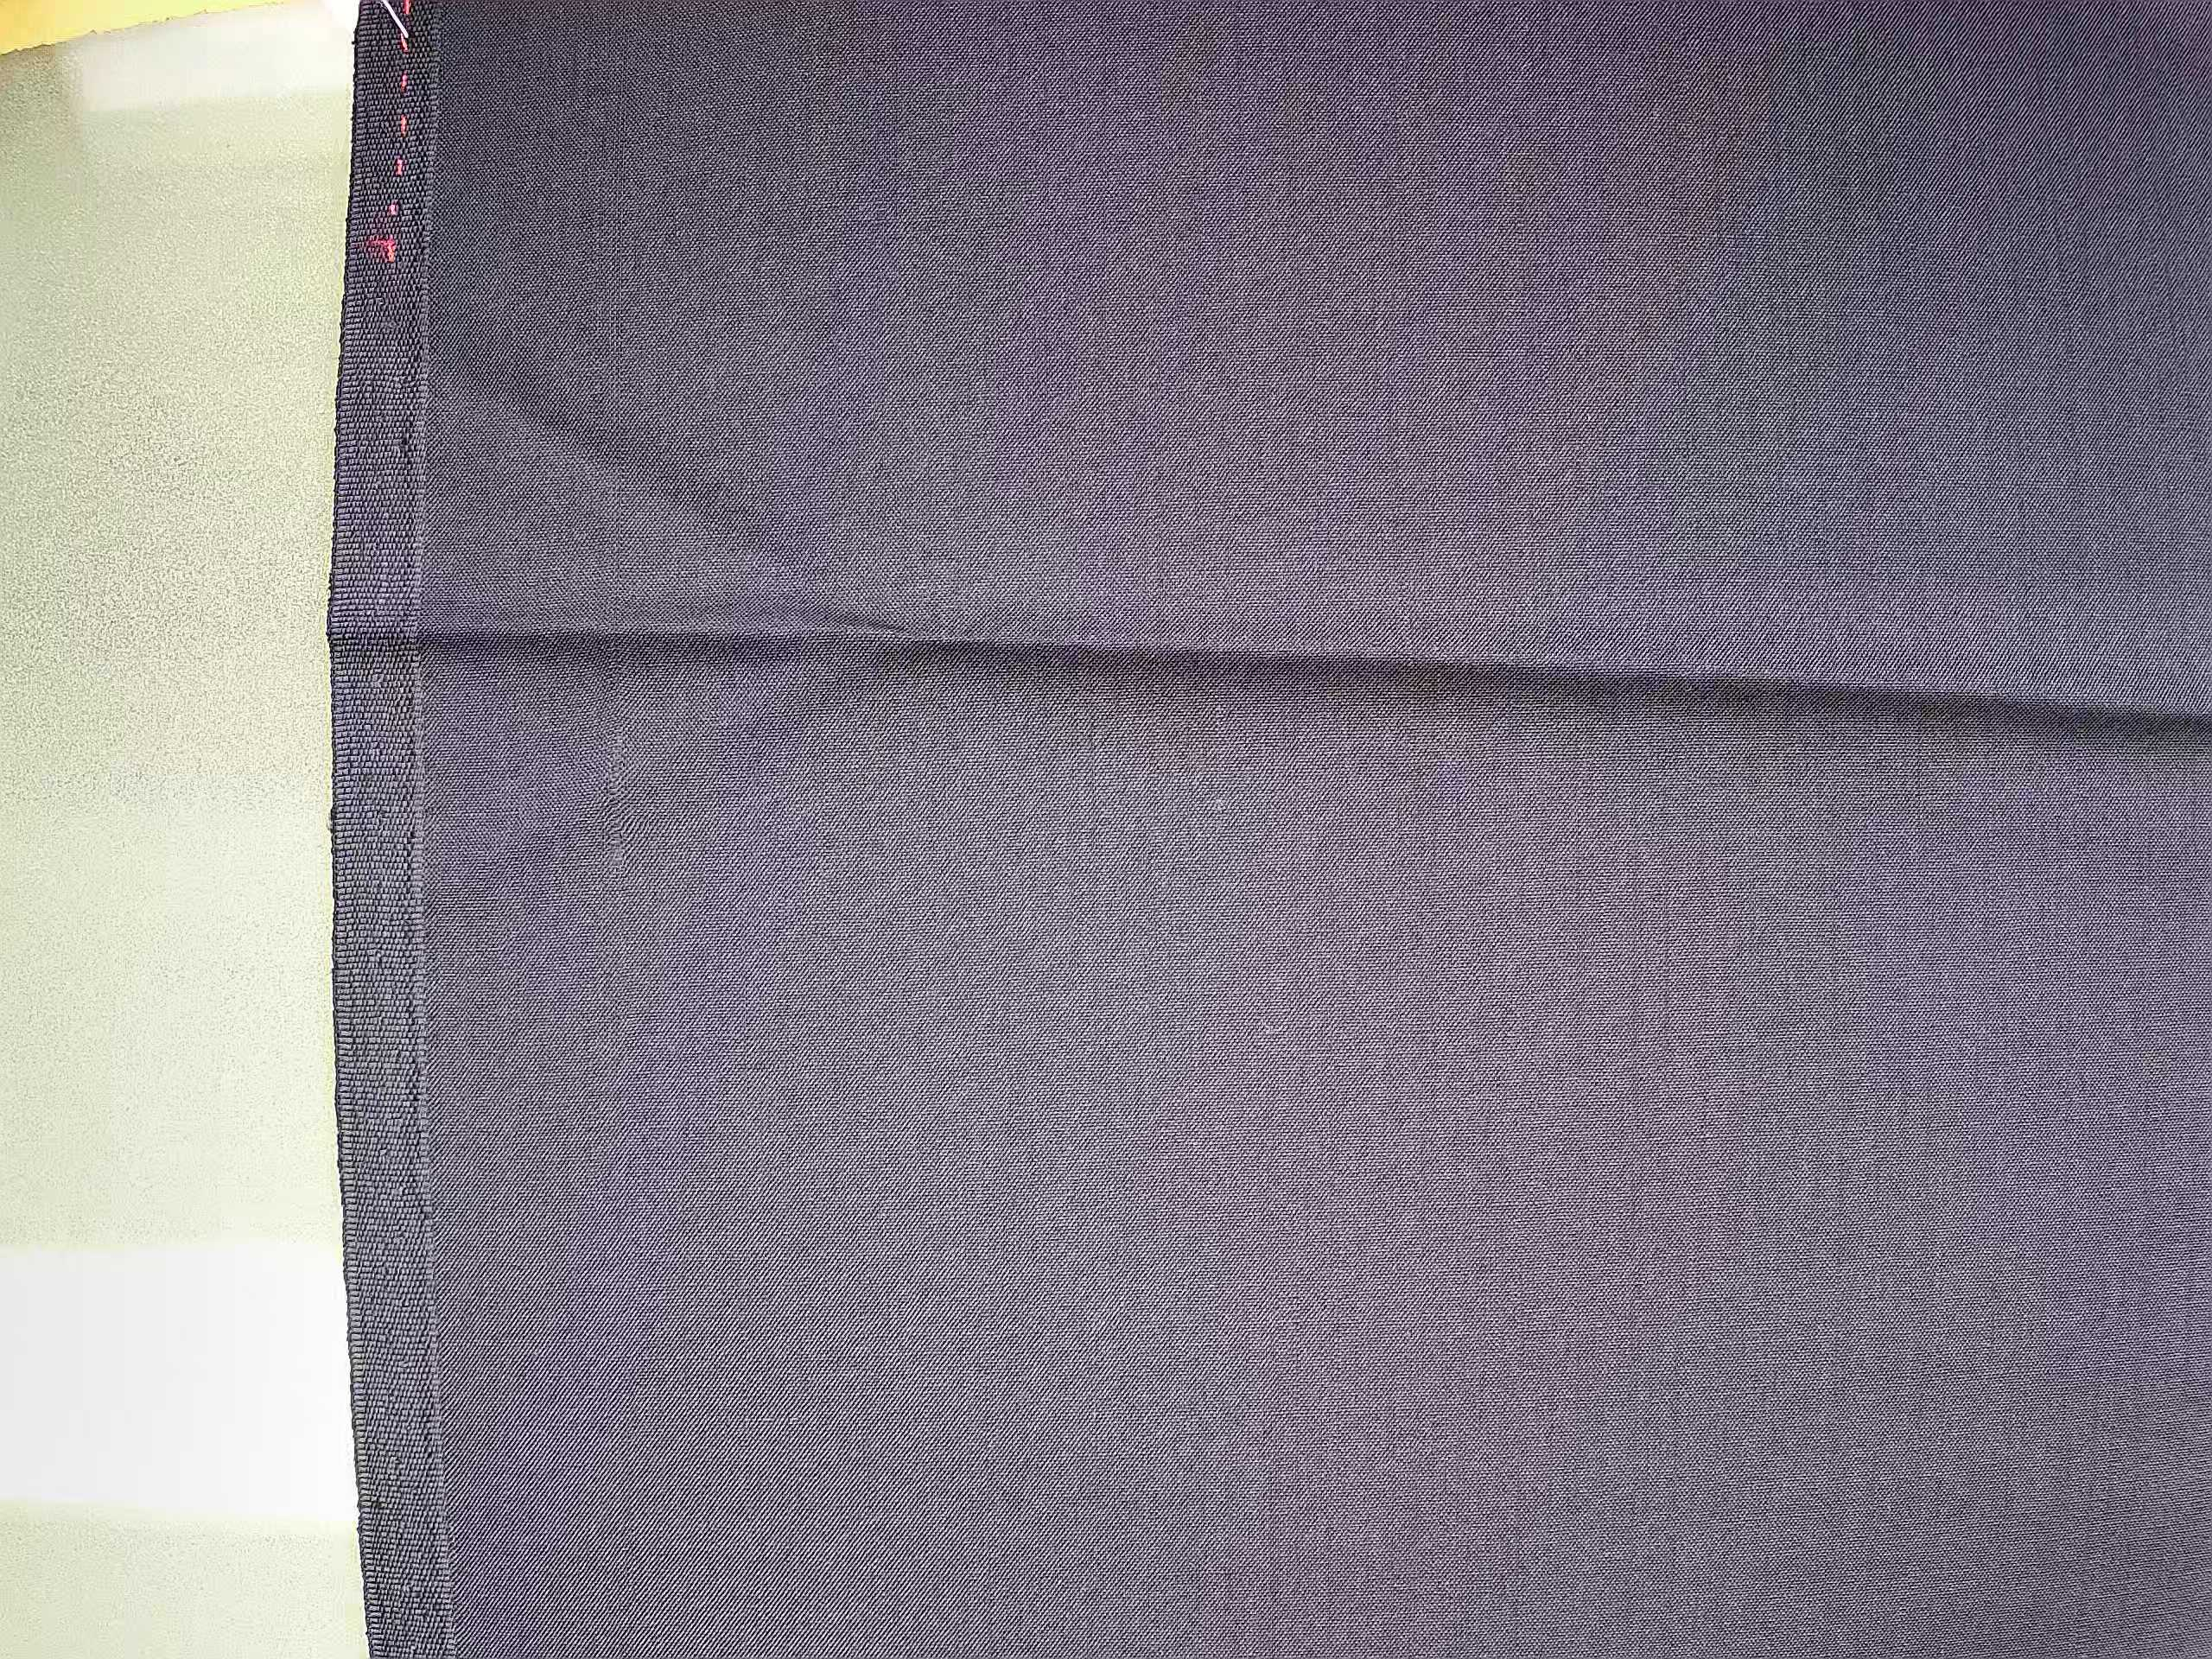hanging-warp: (578, 225, 660, 1002)
